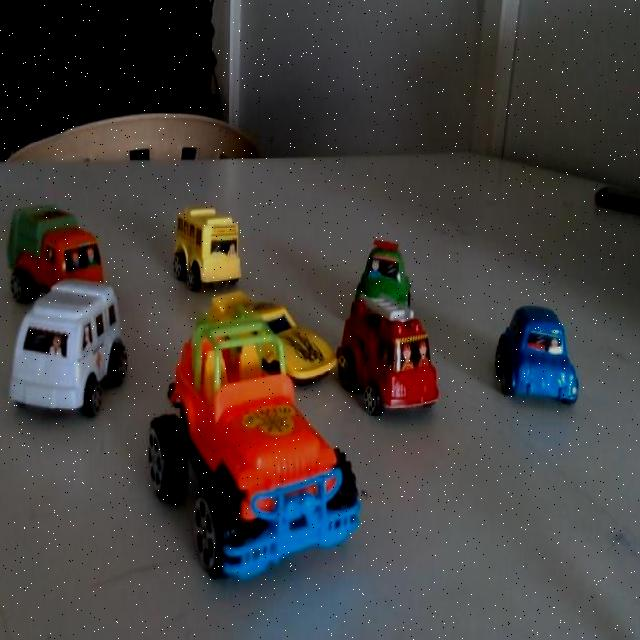car: (212, 393, 370, 589), (488, 294, 595, 432), (222, 288, 338, 400), (17, 293, 123, 407), (358, 297, 445, 428), (19, 198, 114, 312), (360, 242, 422, 328), (189, 201, 250, 287)
